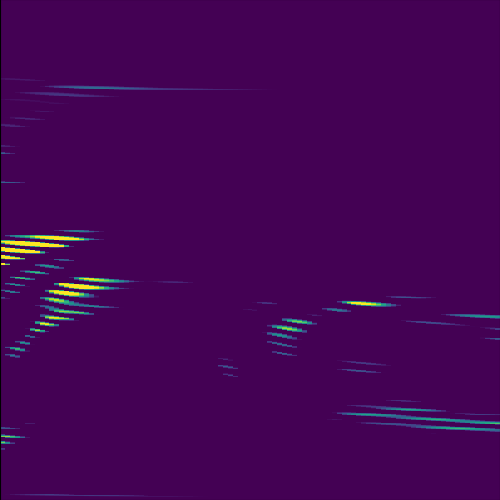semblance: (1, 231, 95, 267), (38, 275, 127, 301)
